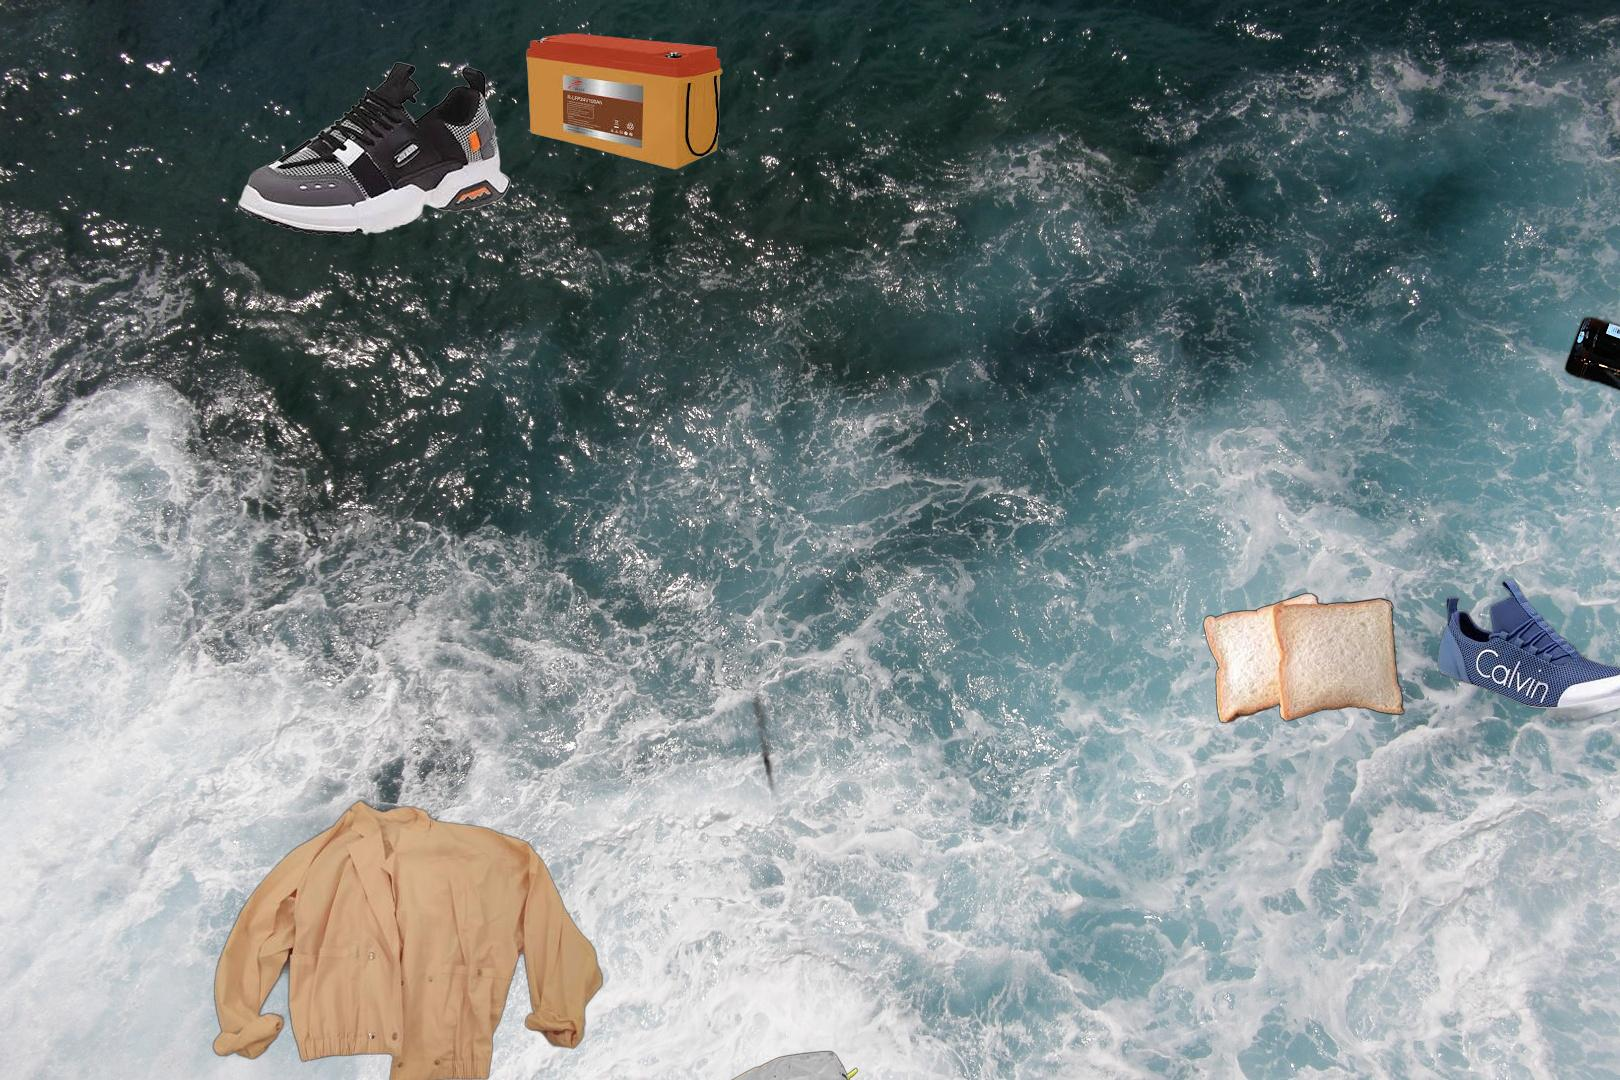battery: (523, 30, 726, 174)
biological: (1201, 589, 1407, 726)
clothes: (209, 798, 603, 1080)
glass: (1561, 311, 1620, 421)
paper: (518, 655, 818, 956)
plastic-bag: (662, 1049, 867, 1080)
shoes: (236, 59, 513, 237), (1434, 576, 1620, 726)
